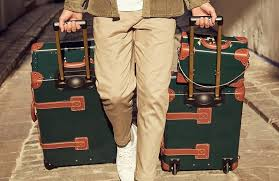suitcase: (159, 15, 250, 175), (28, 22, 119, 171)
